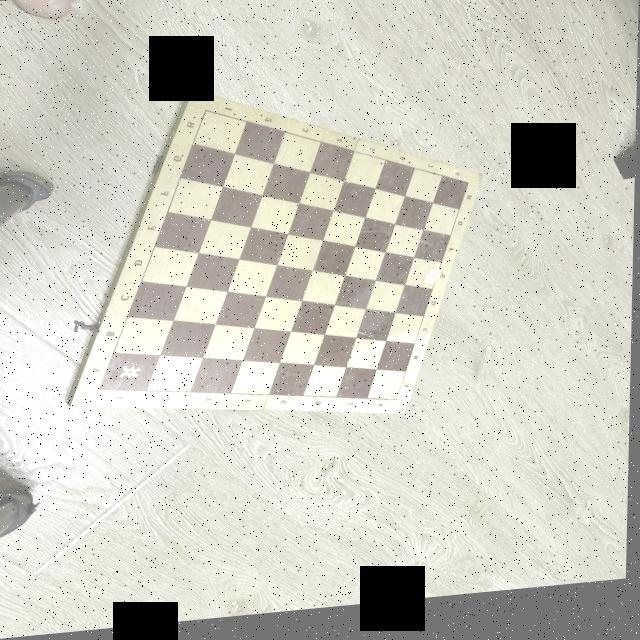chess-table-corners: (203, 110, 210, 117), (98, 388, 104, 394), (396, 404, 402, 409), (467, 190, 472, 193)
